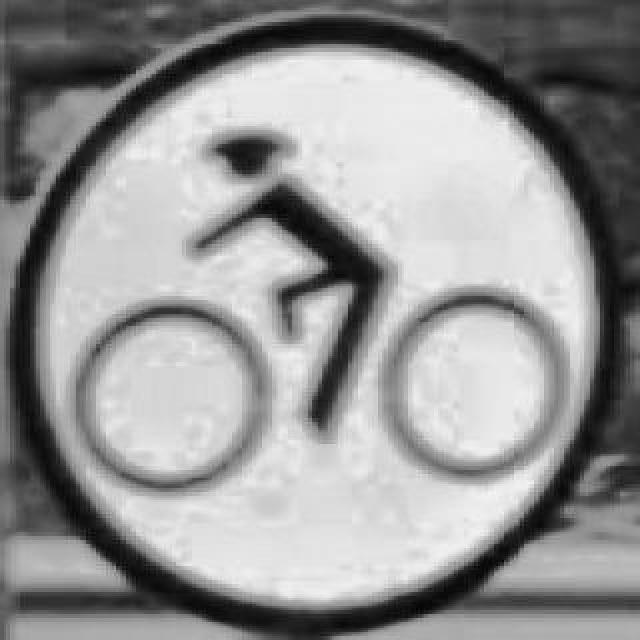bike lane: (6, 12, 616, 630)
